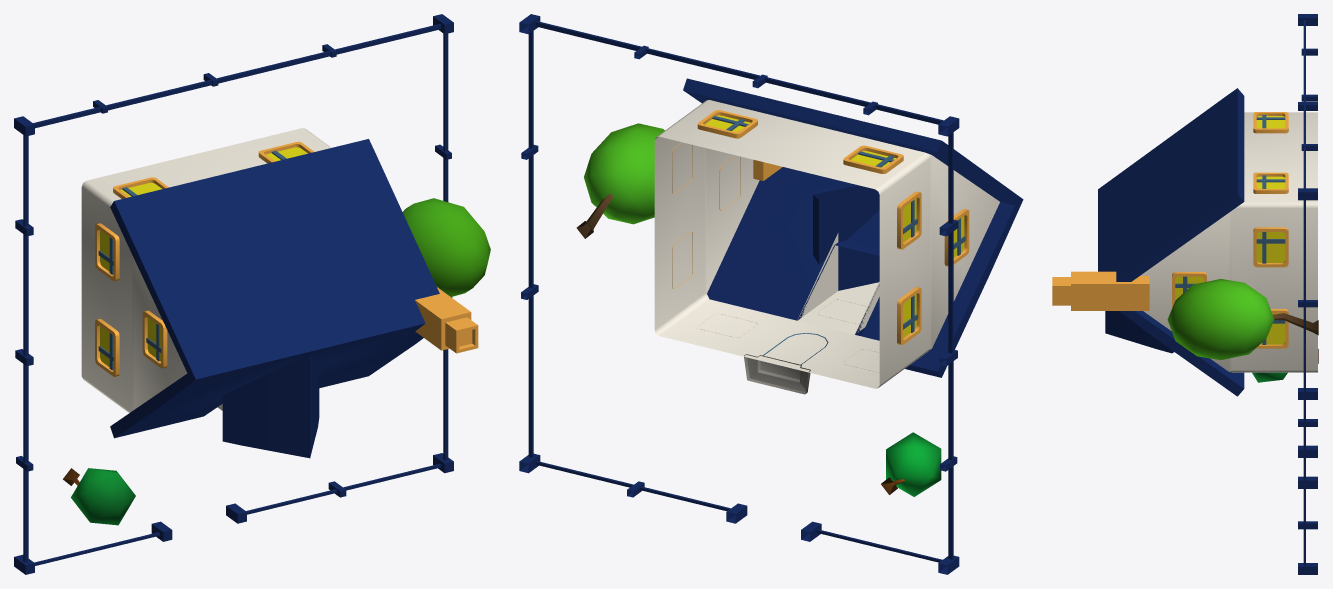
Rendered from Simple_House_01_02.fbx.
3 renders of one model, left to right at view 1: azimuth 30°, elevation 25°; view 2: azimuth 150°, elevation 25°; view 3: azimuth 270°, elevation 25°, orthographic. The views are drawn at different scales.
Visible parts, largest first — view 1: Simple_House_01_02; view 2: Simple_House_01_02; view 3: Simple_House_01_02.
Part boxes in pixels (left/top/right/bottom): Simple_House_01_02: left=14, top=14, right=490, bottom=574; Simple_House_01_02: left=519, top=14, right=1023, bottom=574; Simple_House_01_02: left=1052, top=14, right=1318, bottom=574.
Size of the model in its own units: 197 by 197 by 124.
